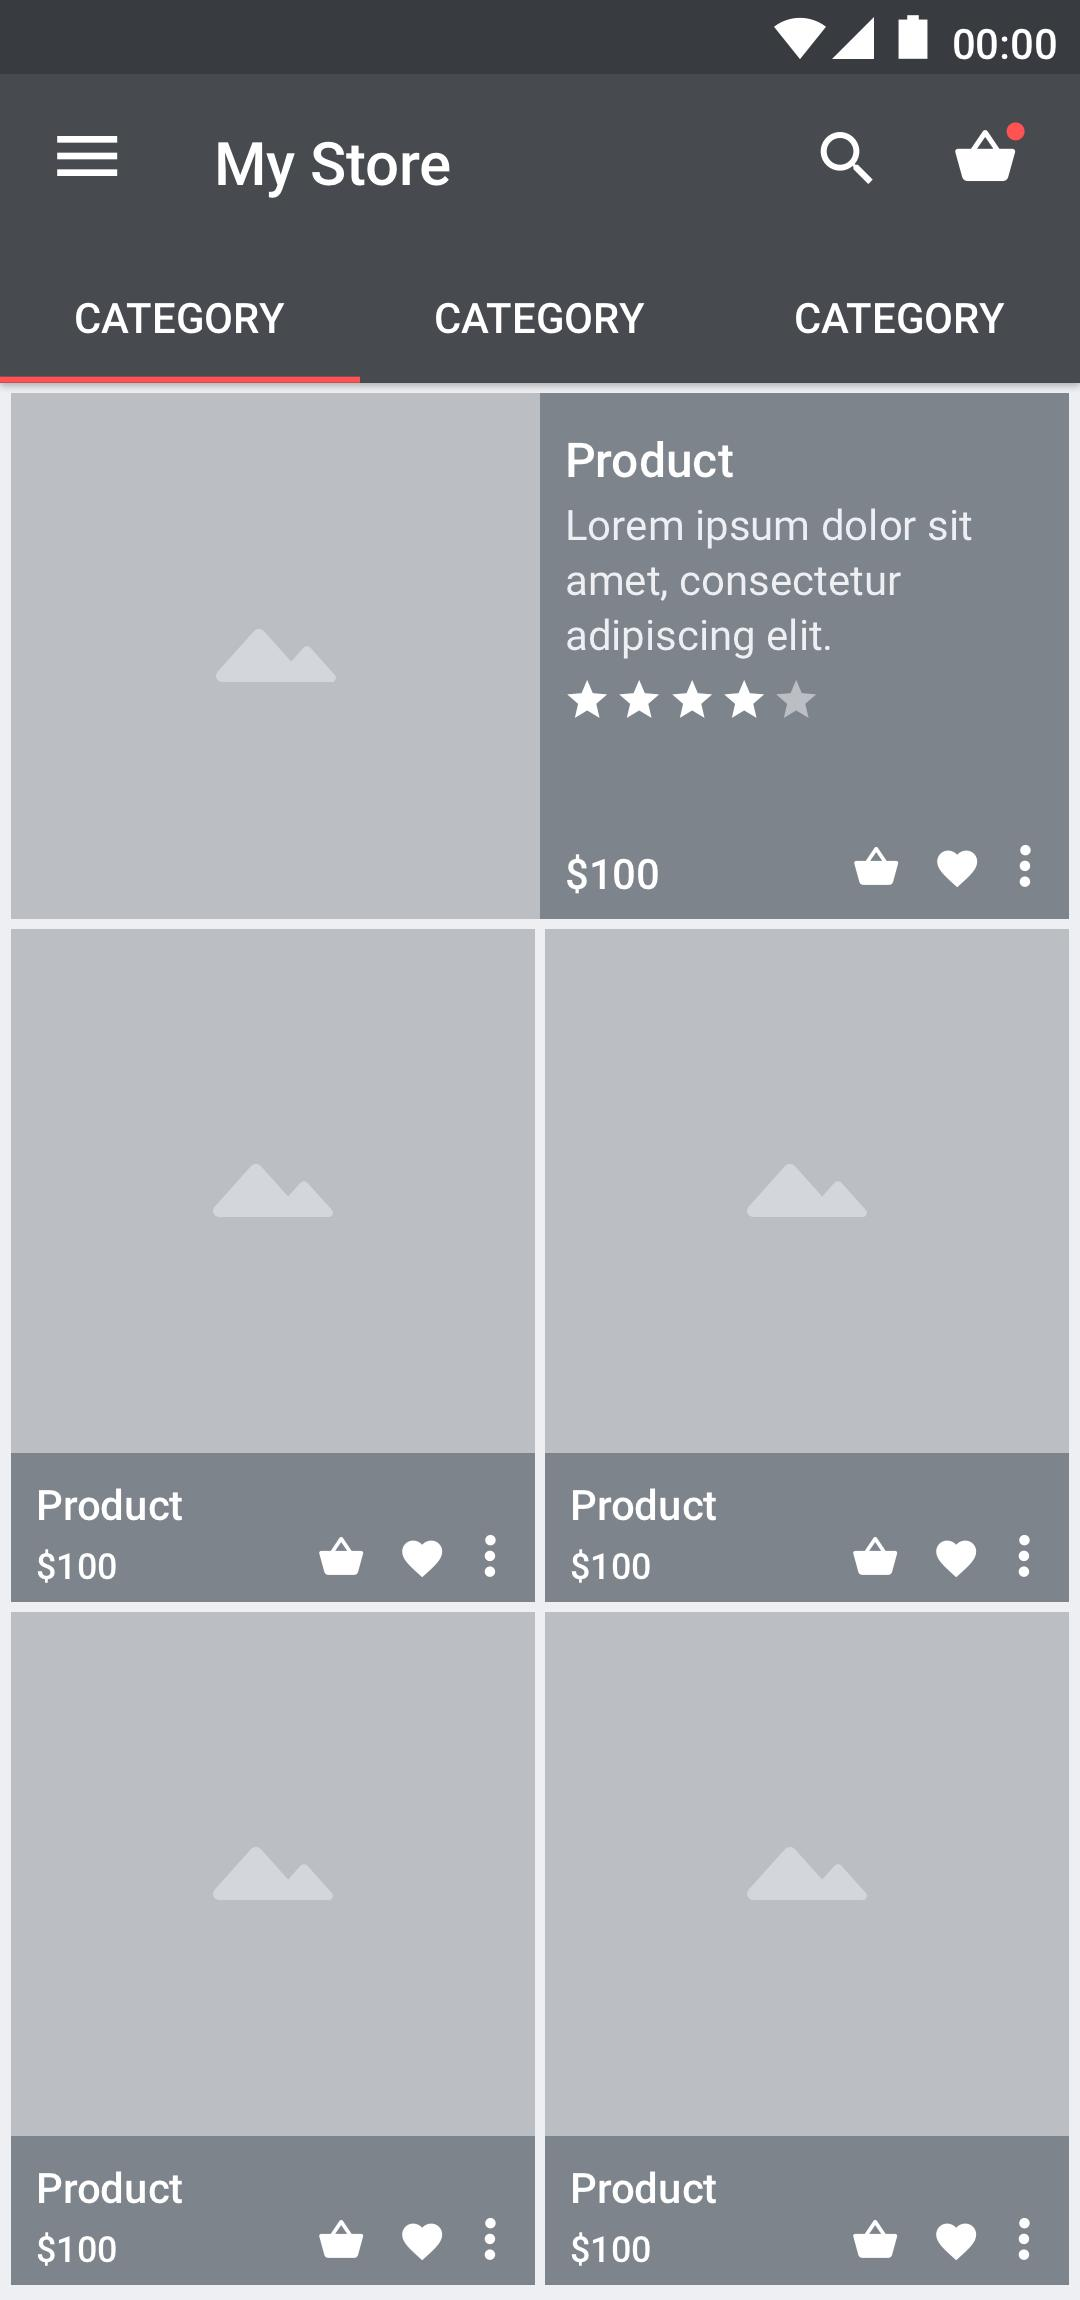Icon: (563, 678, 816, 722), (952, 120, 1026, 183), (819, 131, 875, 186), (56, 135, 120, 177), (853, 1531, 900, 1577), (851, 2216, 900, 2259), (317, 1534, 365, 1577), (318, 2219, 365, 2260), (853, 846, 900, 887), (401, 2221, 445, 2262), (935, 2221, 979, 2260), (401, 1539, 445, 1578), (935, 849, 979, 889), (935, 1539, 977, 1578), (1015, 2213, 1033, 2262), (481, 2216, 499, 2262), (1015, 1533, 1032, 1578), (1017, 843, 1032, 889), (484, 1533, 497, 1578)
Image: (12, 393, 540, 920), (12, 930, 536, 1454), (12, 1612, 536, 2136), (546, 929, 1068, 1454), (546, 1614, 1070, 2136)
Text: (565, 508, 974, 662), (217, 141, 450, 202), (434, 301, 646, 336), (795, 302, 1007, 336), (76, 301, 288, 334), (566, 442, 735, 480), (572, 1486, 719, 1523), (38, 1486, 183, 1523), (571, 2169, 718, 2205), (40, 2169, 185, 2205), (566, 854, 660, 896), (37, 2230, 119, 2268), (571, 1548, 652, 1586), (37, 1549, 117, 1586), (571, 2231, 652, 2268)
UpperTaskBar: (1, 1, 1080, 75)
